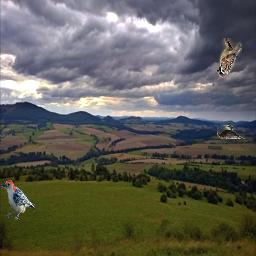Crow: (217, 125, 245, 139)
Sparrow: (217, 38, 242, 78)
Woodpecker: (1, 180, 35, 220)
